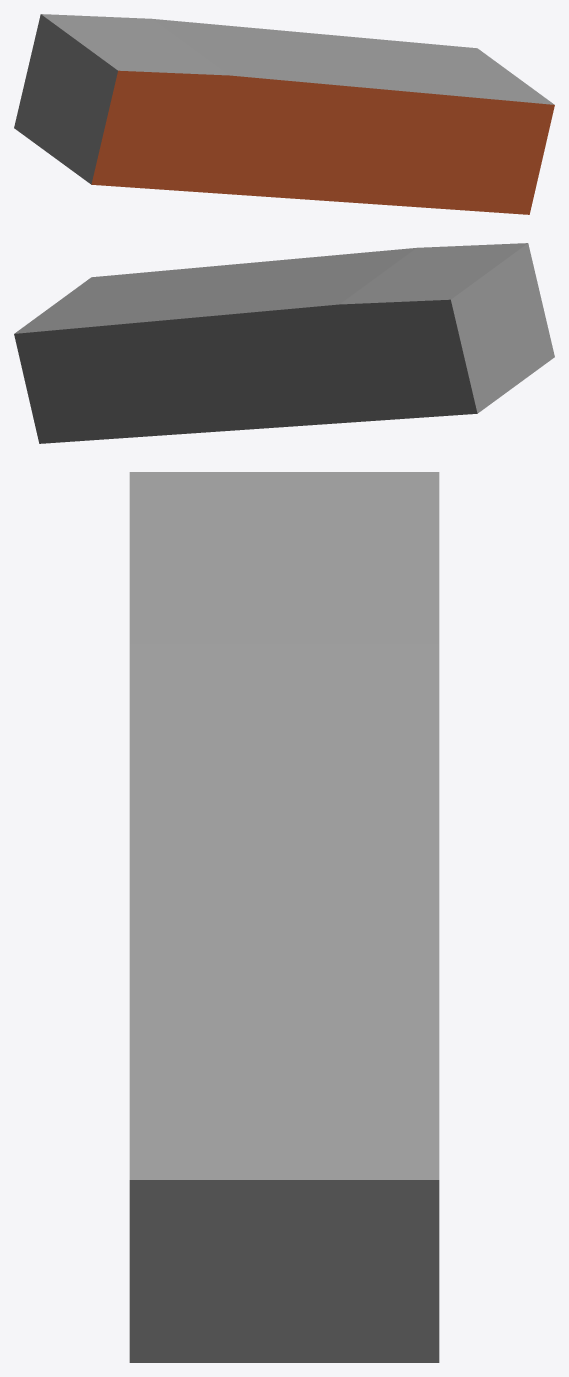
The model's file is construction_7214_assumed_A_Ruinas_h6m.obj.
The picture shows the model from 3 angles, top to bottom: view 1: azimuth 30°, elevation 25°; view 2: azimuth 150°, elevation 25°; view 3: azimuth 270°, elevation 25°; orthographic projection. The views are drawn at different scales.
Parts seen in each view (by area): view 1: construction_7214_assumed_A_Ruinas; view 2: construction_7214_assumed_A_Ruinas; view 3: construction_7214_assumed_A_Ruinas.
Boxes of the visible parts, box(x1,y1,x2,y2) form: construction_7214_assumed_A_Ruinas: box(14, 14, 554, 214); construction_7214_assumed_A_Ruinas: box(14, 243, 554, 443); construction_7214_assumed_A_Ruinas: box(129, 472, 439, 1362).
Bounding box in the file's own units: 20.74 × 10.46 × 6.
